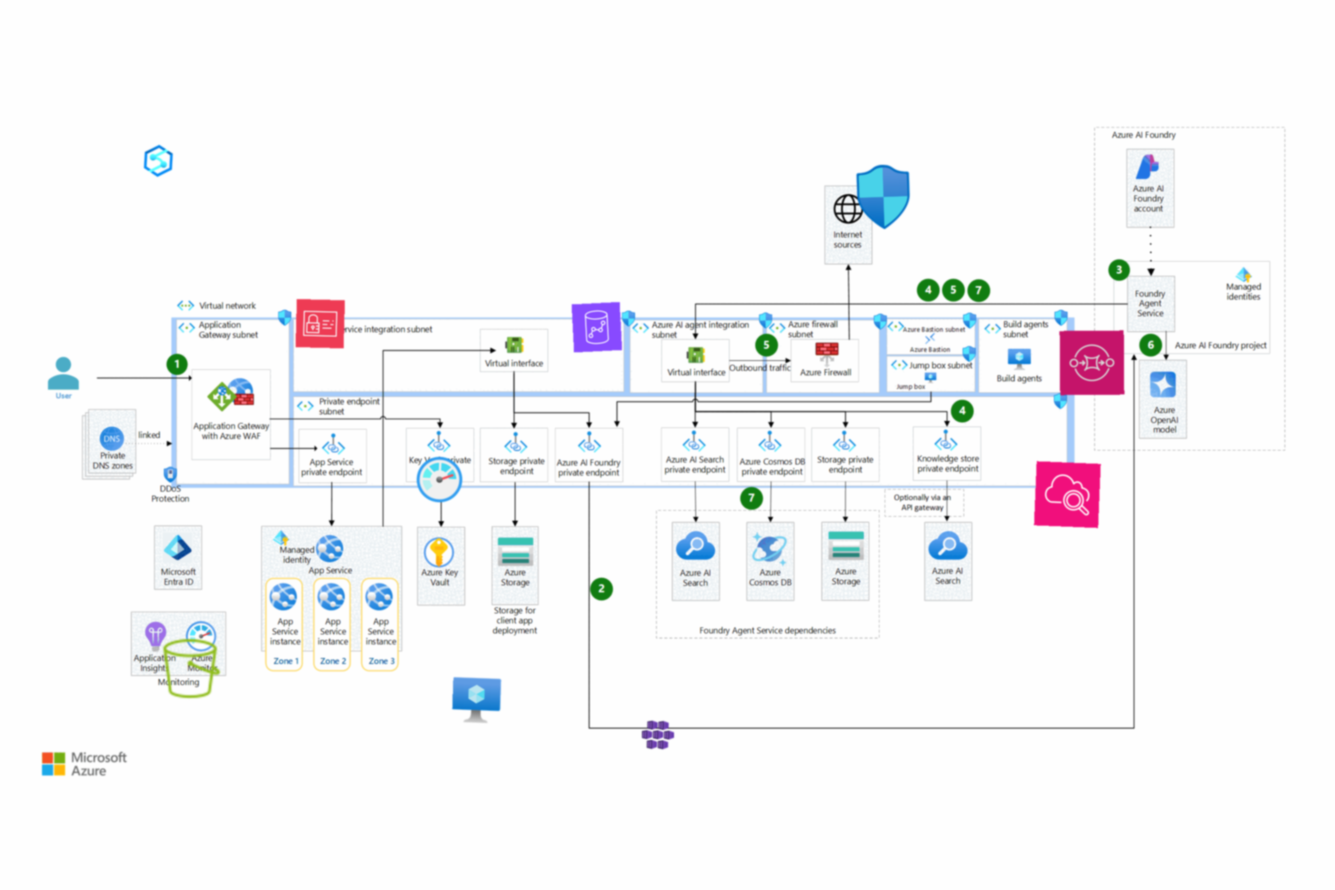aws_amazon_cloudwatch: (1034, 461, 1101, 528)
aws_amazon_redshift: (571, 301, 622, 353)
aws_amazon_simple_queue_service: (1059, 330, 1124, 395)
aws_identity_and_access_management: (295, 299, 345, 349)
aws_simple_storage_service_s3_standard: (159, 635, 224, 701)
azure_kubernetes_services: (641, 718, 675, 751)
azure_monitor: (413, 454, 465, 505)
azure_network_security_groups: (849, 163, 917, 230)
azure_synapse_analytics: (141, 144, 175, 177)
azure_virtual_machine: (451, 676, 501, 726)
